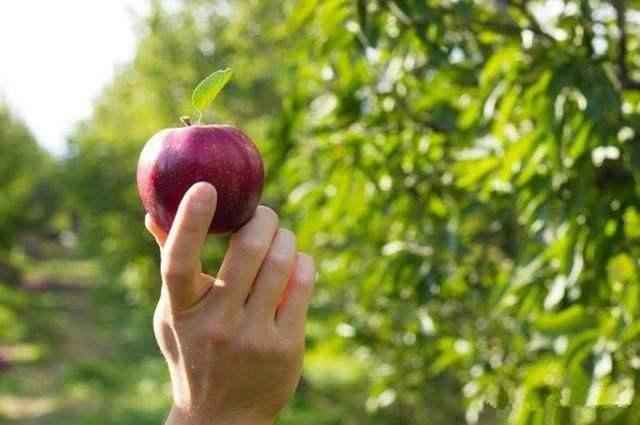apple: (136, 123, 263, 231)
